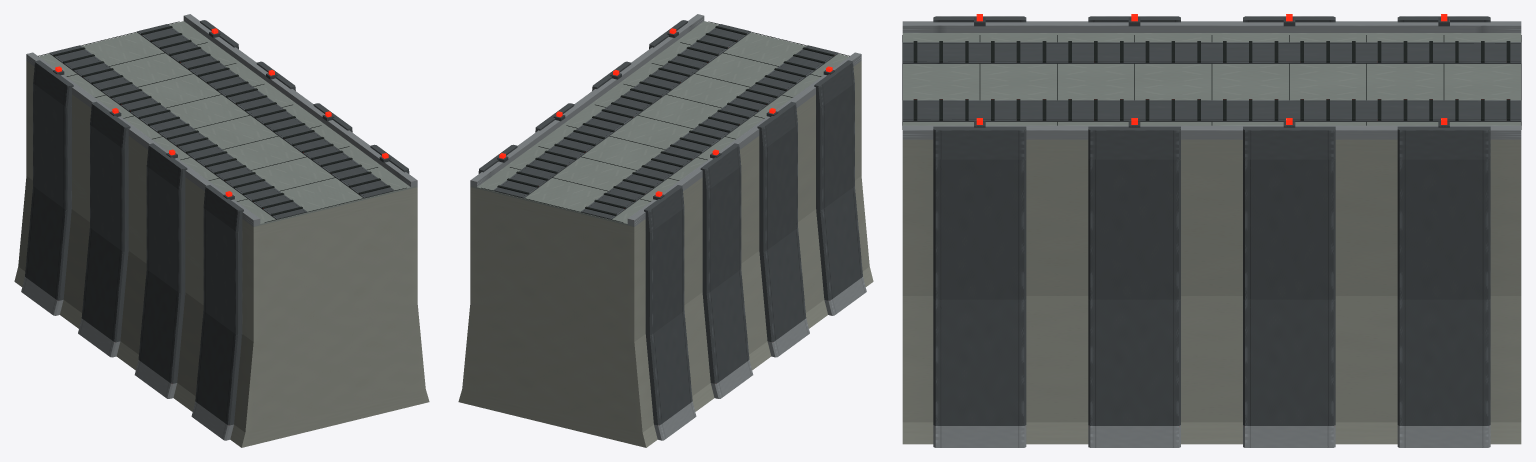
Rendered from straight.glb.
The picture shows the model from 3 angles, left to right: view 1: azimuth 30°, elevation 25°; view 2: azimuth 150°, elevation 25°; view 3: azimuth 270°, elevation 25°; orthographic projection. The views are drawn at different scales.
Visible parts, largest first — view 1: straight-lod0-roof0, straight-lod0-base0, straight-lod0-floor0; view 2: straight-lod0-roof0, straight-lod0-base0, straight-lod0-floor0; view 3: straight-lod0-base0, straight-lod0-floor0, straight-lod0-roof0.
Boxes of the visible parts, box(x1,y1,x2,y2) form: straight-lod0-roof0: box(26, 14, 417, 238); straight-lod0-base0: box(14, 176, 429, 447); straight-lod0-floor0: box(26, 73, 417, 341); straight-lod0-roof0: box(470, 14, 861, 238); straight-lod0-base0: box(458, 176, 873, 447); straight-lod0-floor0: box(470, 73, 861, 341); straight-lod0-base0: box(902, 296, 1521, 447); straight-lod0-floor0: box(902, 156, 1521, 299); straight-lod0-roof0: box(902, 14, 1521, 159).
Size of what is drawn, in the model's own units: 36.4 by 40.38 by 72.08.
Materials: 7 (7 with a texture image).
